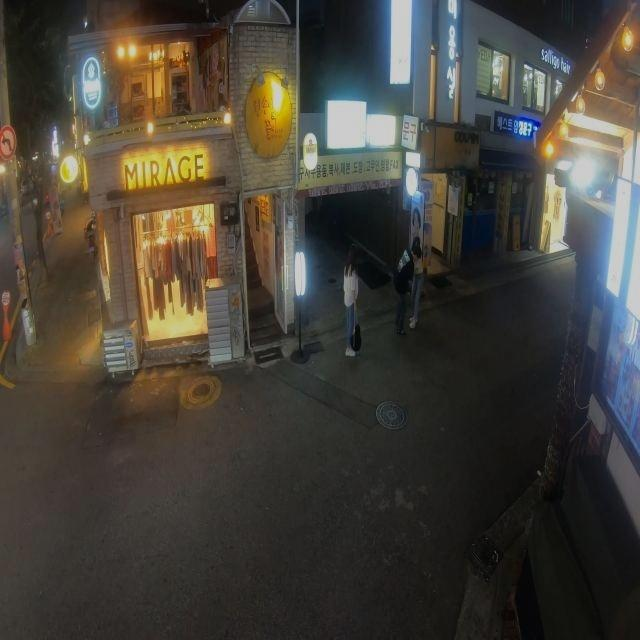non-fight: (340, 242, 368, 360), (392, 244, 415, 333)
